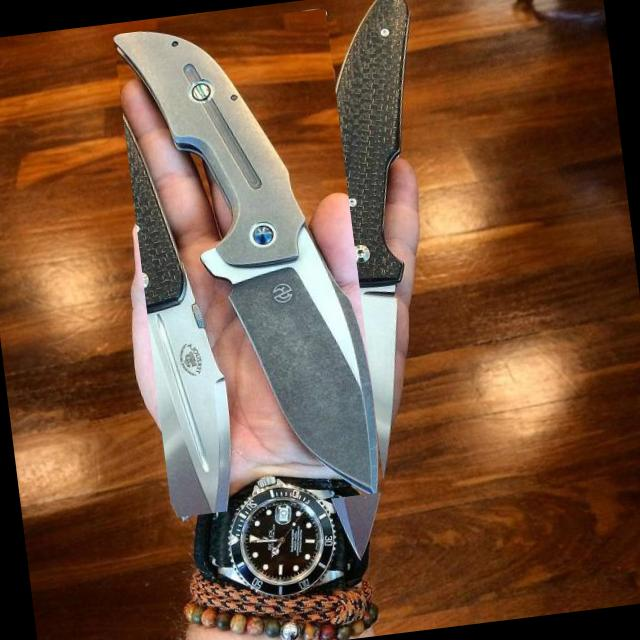Knife: (114, 31, 378, 493), (301, 0, 409, 555)
